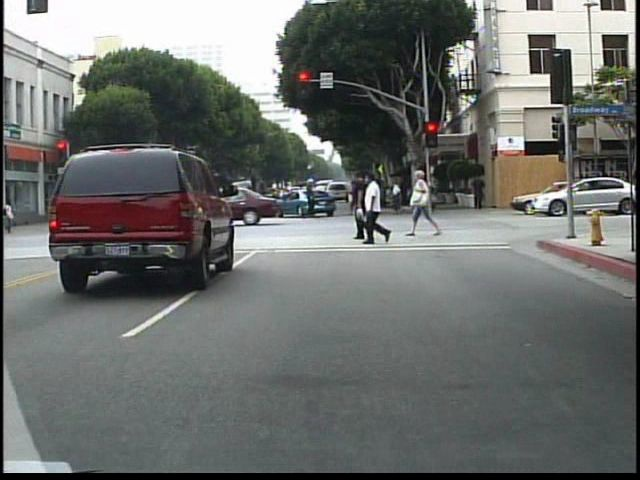person: (365, 172, 396, 248), (410, 170, 441, 242), (349, 170, 374, 244), (351, 173, 372, 220), (470, 168, 490, 208), (302, 175, 320, 219), (147, 186, 163, 232), (126, 188, 143, 230), (390, 175, 407, 216), (349, 178, 367, 216), (4, 197, 20, 232), (3, 199, 17, 236)
